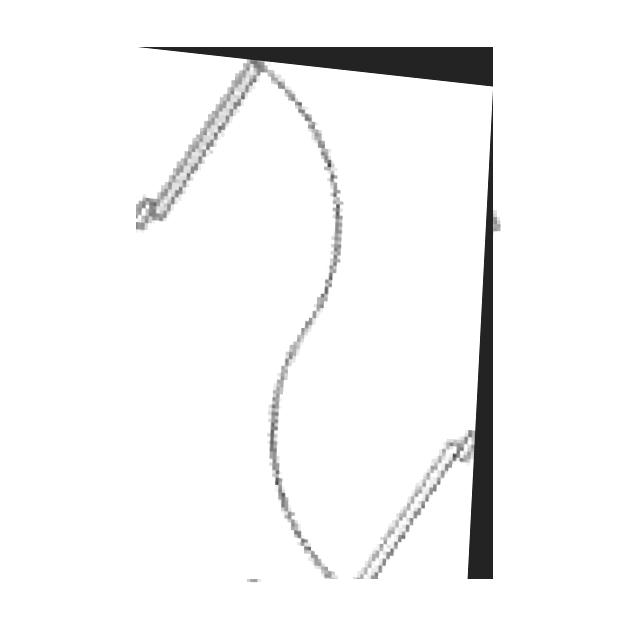door: (136, 47, 493, 579)
